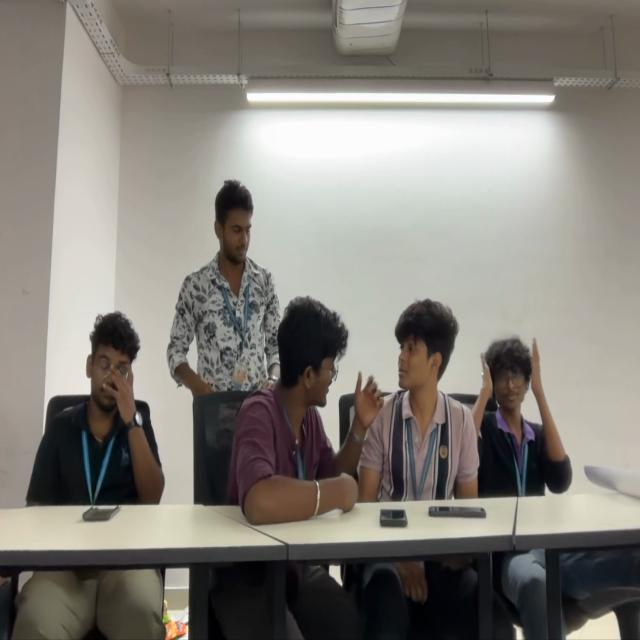Isolated: (25, 309, 164, 504)
socializing: (167, 174, 572, 501)
